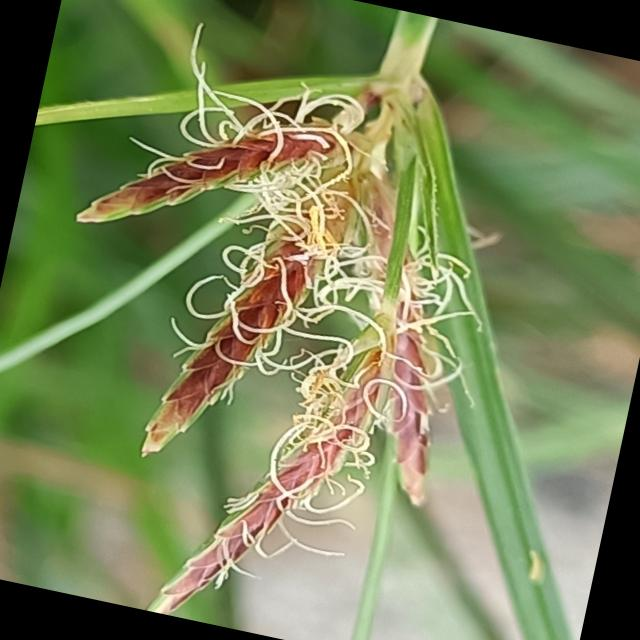cyperus: (0, 41, 525, 640)
